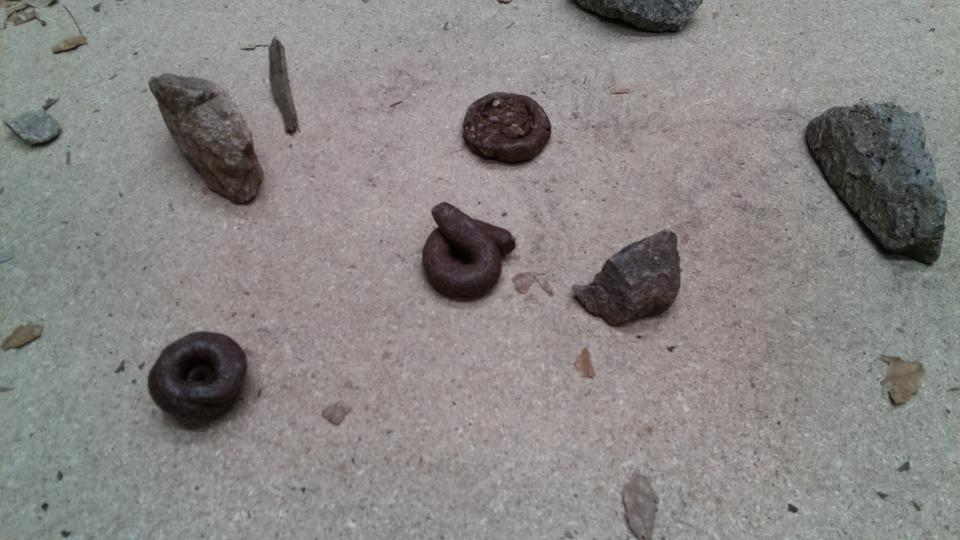poop: (302, 201, 416, 297), (183, 184, 278, 265)
